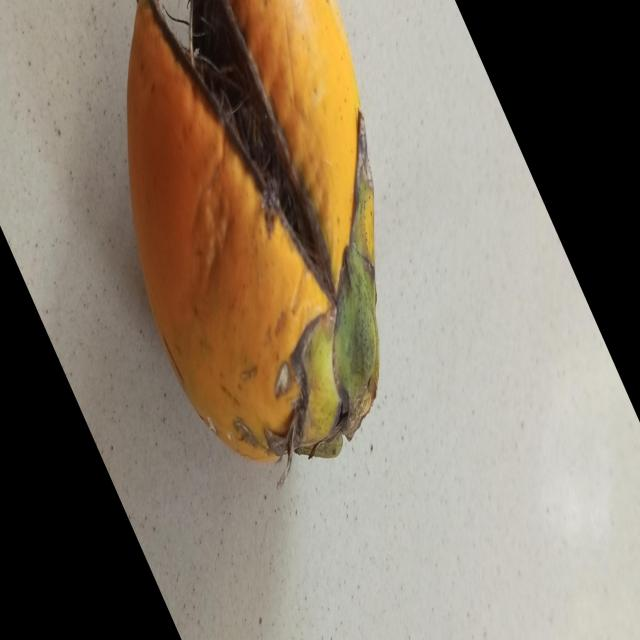damaged: (126, 0, 381, 466)
